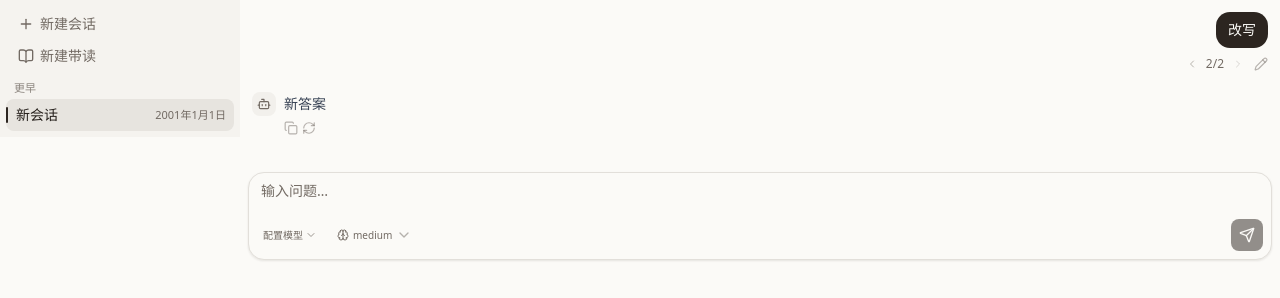
ChatPanel branch switcher › cancels an in-progress edit before switching branches
Click the button named "编辑". click: (1261, 64)
box: top-left (1254, 57), bottom-right (1268, 71)
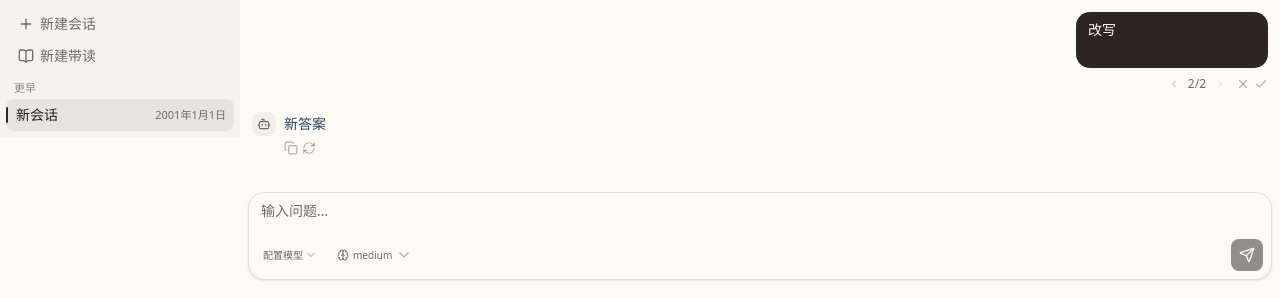
Expected: the button named "保存" is shown, top-left (1254, 77), bottom-right (1268, 91)
Click the button named "切换到上一个分支". click: (1174, 84)
box: top-left (1162, 72), bottom-right (1186, 96)
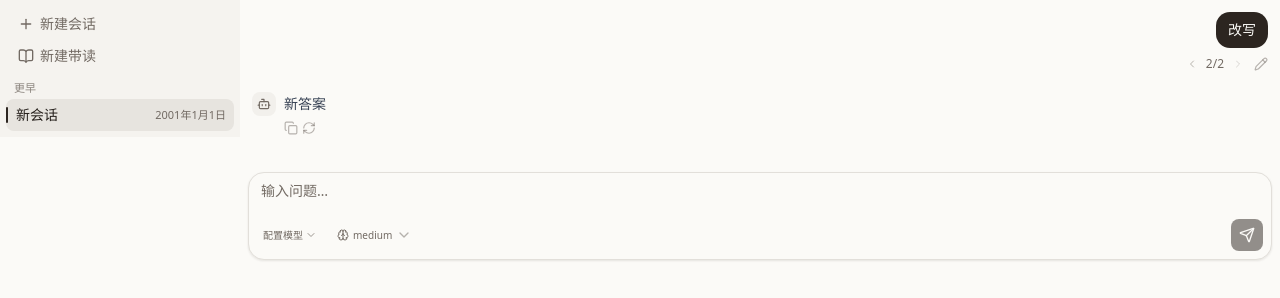
Expected: the button "保存" is gone
